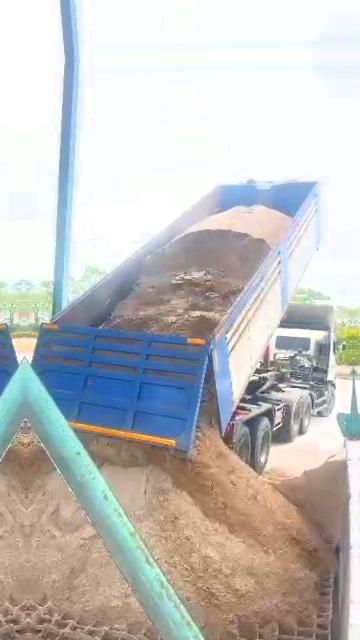sand: (87, 418, 330, 640), (104, 205, 291, 336), (26, 446, 145, 622), (270, 461, 346, 544)
